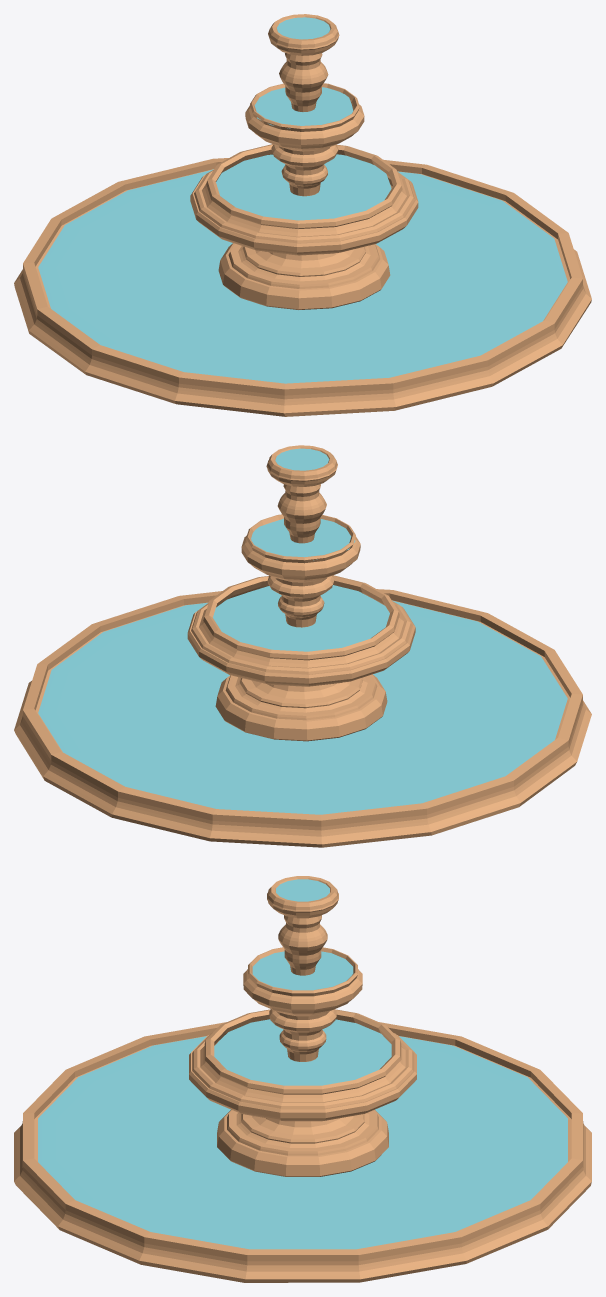
File: Fountain (1).fbx
3 renders of one model, top to bottom at view 1: azimuth 30°, elevation 25°; view 2: azimuth 150°, elevation 25°; view 3: azimuth 270°, elevation 25°, orthographic.
Parts seen in each view (by area): view 1: Grass.004; view 2: Grass.004; view 3: Grass.004.
Part boxes in pixels (x1=…): Grass.004: x1=14, y1=14, x2=591, y2=416; Grass.004: x1=14, y1=445, x2=591, y2=847; Grass.004: x1=14, y1=876, x2=591, y2=1282.
Bounding box in the file's own units: 6 × 3.14 × 6.
